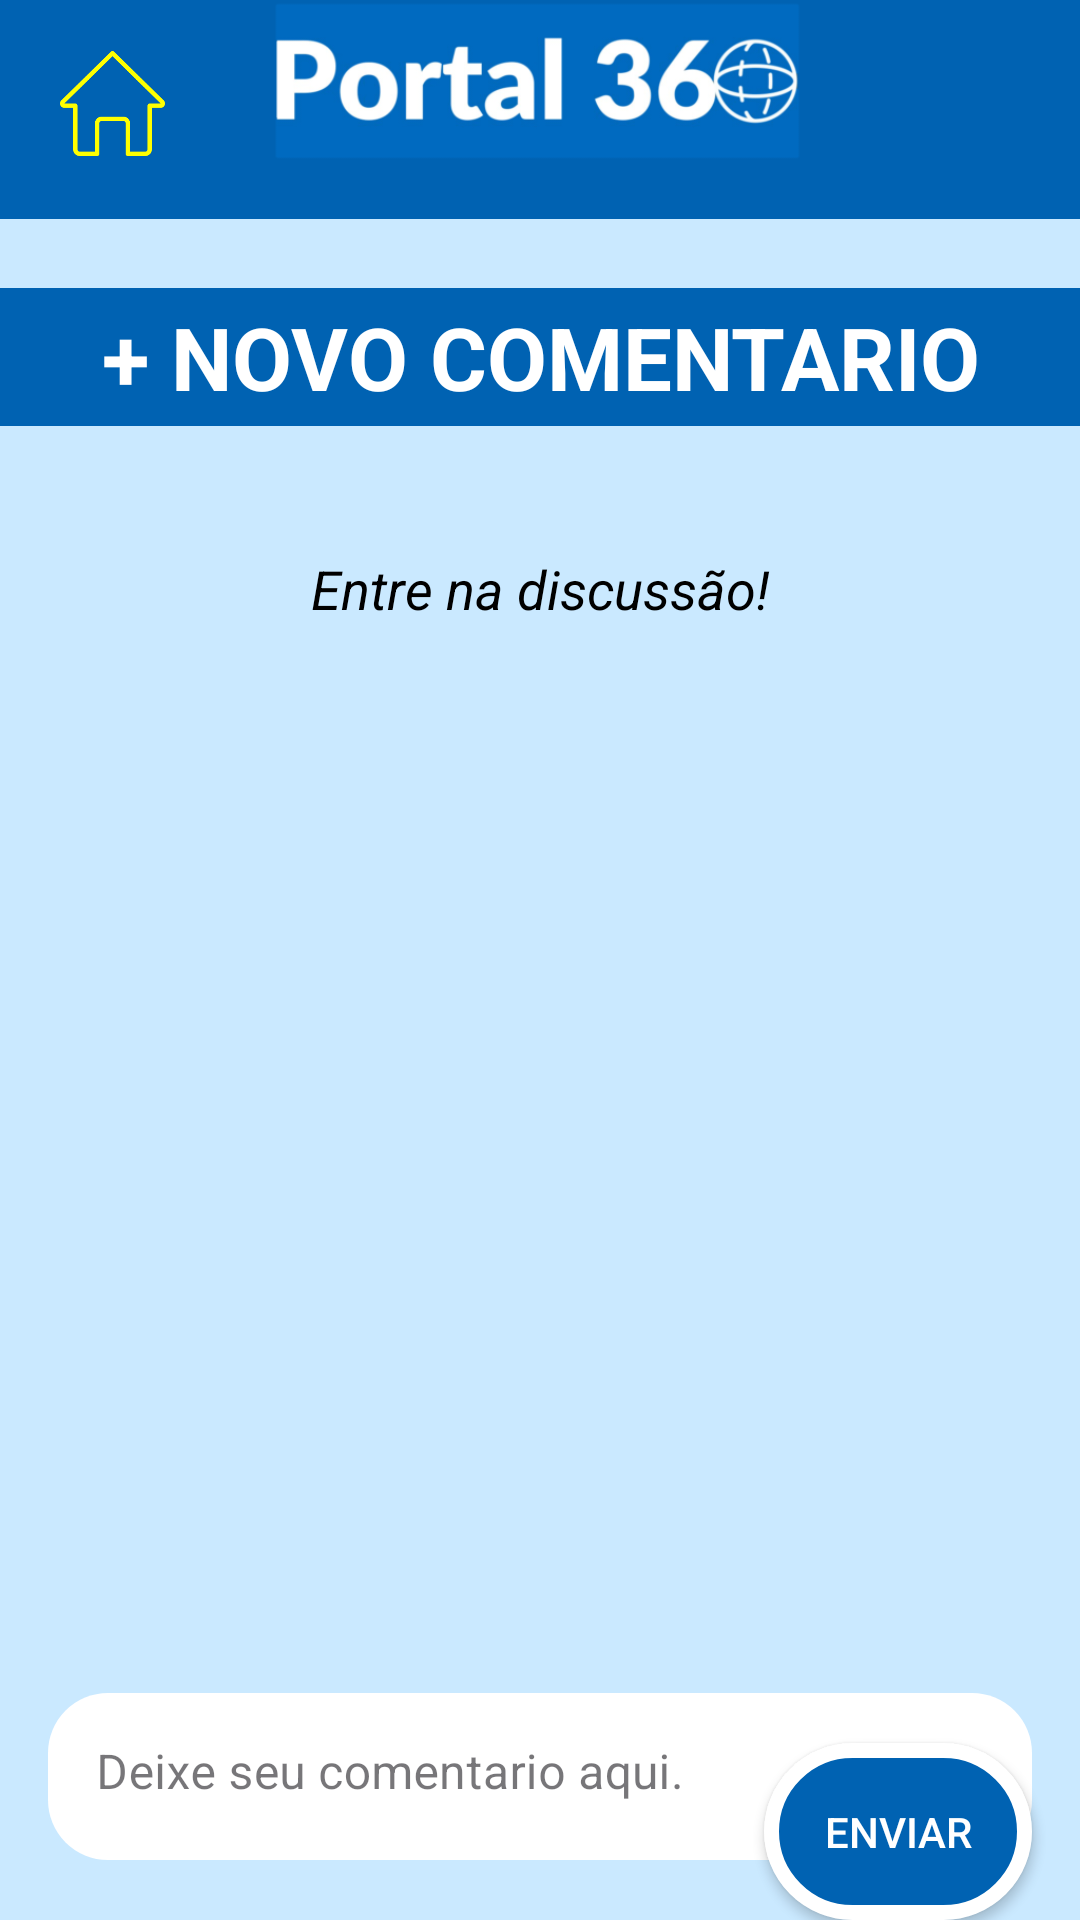

Locate icon controls on the screen. Image size 1080w x 1920h, boxes as rect(x1, y1, x2, y2).
Volte a tela inicial: rect(60, 51, 165, 156)
